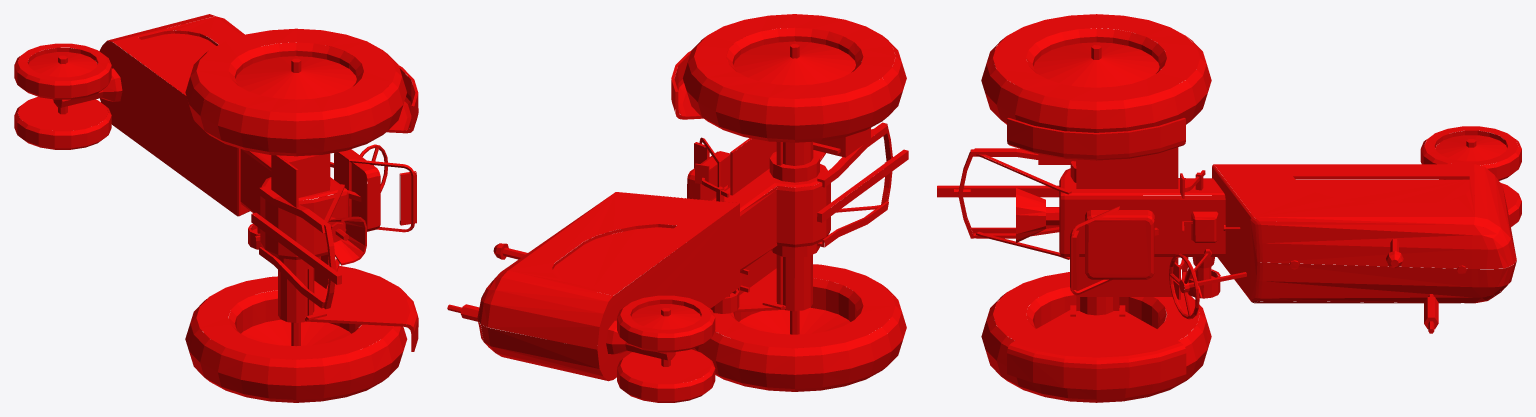
3 renders of one model, left to right at view 1: azimuth 30°, elevation 25°; view 2: azimuth 150°, elevation 25°; view 3: azimuth 270°, elevation 25°, orthographic. The views are drawn at different scales.
Parts seen in each view (by area): view 1: Renderer Node; view 2: Renderer Node; view 3: Renderer Node.
Boxes of the visible parts, x1=… form: Renderer Node: x1=14, y1=14, x2=418, y2=402; Renderer Node: x1=447, y1=14, x2=908, y2=402; Renderer Node: x1=937, y1=14, x2=1521, y2=402.
Size of the model in its own units: 1.14 by 1.22 by 2.
Materials: 1 (1 with a texture image).
